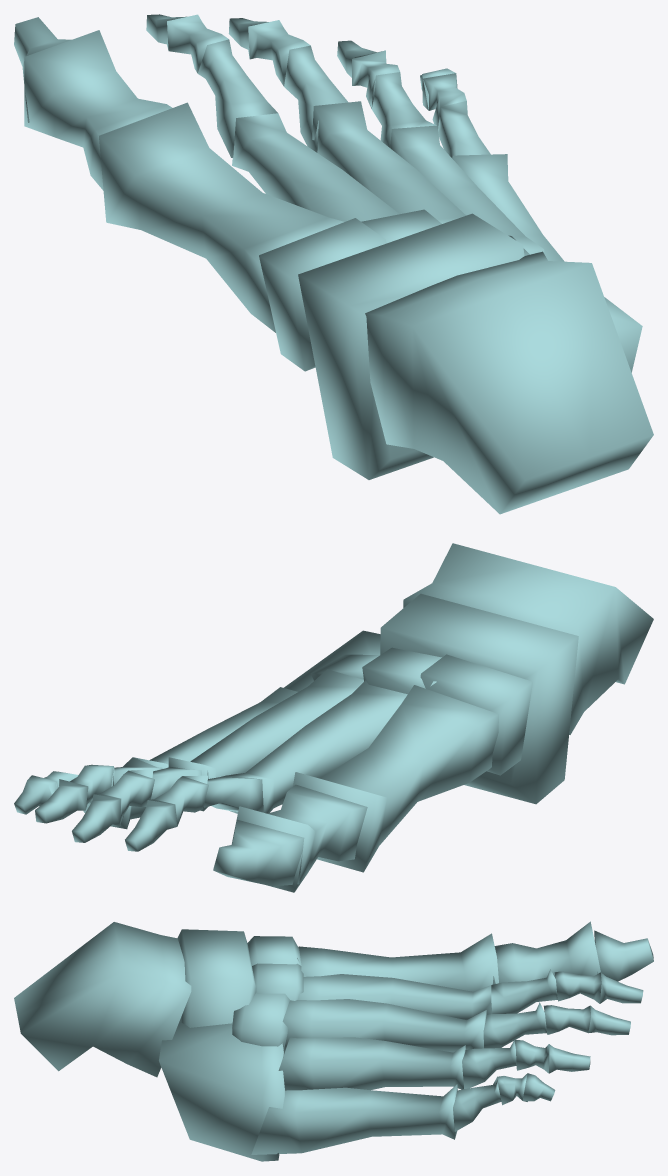
Rendered from skelly_foot_front.R.fbx.
3 views of the same model, one above another, from view 1: azimuth 30°, elevation 25°; view 2: azimuth 150°, elevation 25°; view 3: azimuth 270°, elevation 25° (orthographic). The views are drawn at different scales.
Visible parts, largest first — view 1: skelly_foot_front.R; view 2: skelly_foot_front.R; view 3: skelly_foot_front.R.
Boxes of the visible parts, x1,y1,x2,y2 form: skelly_foot_front.R: [14, 14, 653, 514]; skelly_foot_front.R: [14, 543, 653, 892]; skelly_foot_front.R: [14, 921, 653, 1161].
Size of the model in its own units: 9.95 by 6.03 by 22.73.
